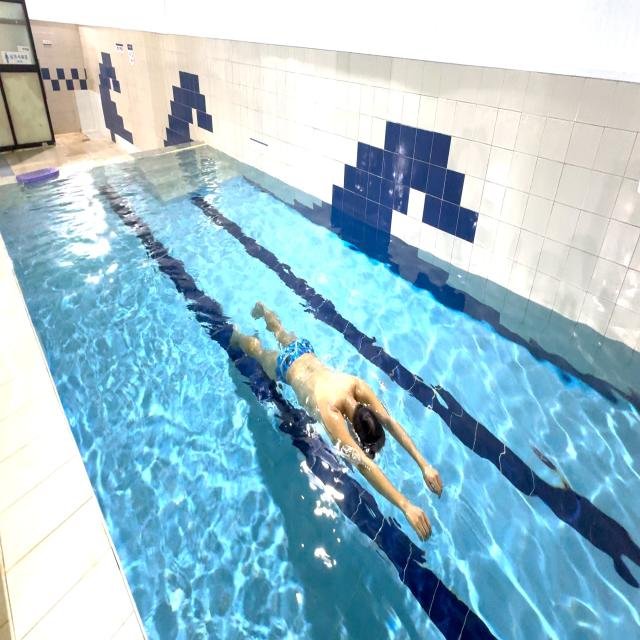Swimming: (220, 273, 458, 565)
